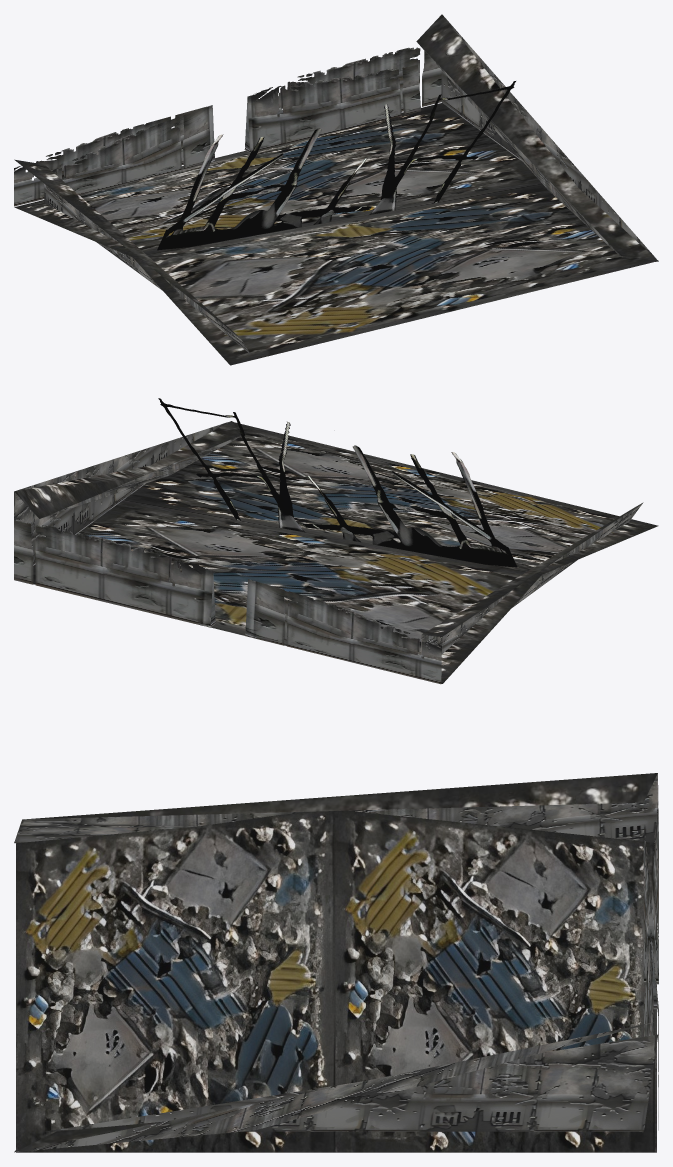
The model's file is s_govresidence_dam_hdtex.glb.
The picture shows the model from 3 angles, top to bottom: view 1: azimuth 30°, elevation 25°; view 2: azimuth 150°, elevation 25°; view 3: azimuth 270°, elevation 25°; orthographic projection. The views are drawn at different scales.
Parts seen in each view (by area): view 1: S_GovResidence; view 2: S_GovResidence; view 3: S_GovResidence.
Boxes of the visible parts, x1,y1,x2,y2 form: S_GovResidence: (14,14,658,365); S_GovResidence: (14,398,658,684); S_GovResidence: (14,773,658,1152).
Size of the model in its own units: 22.17 by 7.07 by 19.49.
4 materials, 4 textured.
